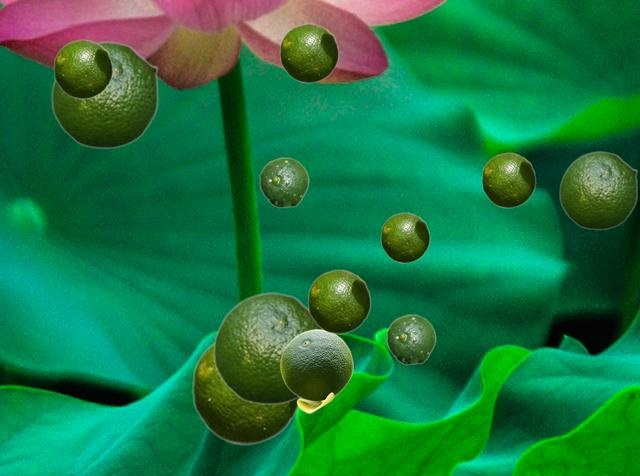calamansi: (213, 292, 319, 404), (51, 41, 158, 148), (191, 341, 300, 444), (559, 151, 637, 229), (280, 329, 352, 412), (307, 269, 370, 333), (279, 23, 338, 82), (53, 39, 112, 98), (481, 152, 535, 207), (259, 157, 308, 207), (380, 212, 429, 262), (386, 314, 435, 364)
